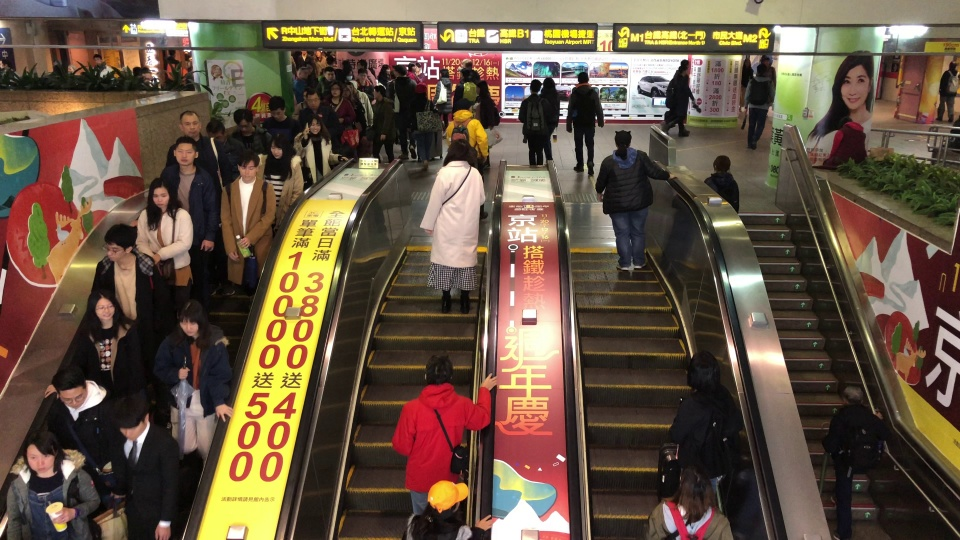person_head: (111, 394, 149, 441), (675, 464, 714, 504), (50, 365, 86, 408), (23, 430, 58, 474), (685, 349, 722, 389), (102, 223, 137, 262), (425, 479, 461, 514), (178, 299, 206, 336), (423, 353, 453, 385), (87, 288, 116, 319), (442, 139, 475, 165), (173, 136, 199, 166), (235, 148, 260, 179), (148, 176, 172, 207), (178, 110, 201, 136), (232, 108, 255, 133), (841, 384, 865, 405), (267, 95, 286, 120), (269, 133, 288, 158), (205, 119, 226, 141), (614, 129, 632, 148), (713, 154, 730, 172), (306, 89, 320, 110), (306, 114, 322, 132), (328, 80, 342, 97), (475, 79, 489, 95), (414, 82, 428, 96), (372, 84, 385, 99), (392, 64, 407, 77), (457, 97, 471, 110), (529, 78, 541, 93), (543, 76, 556, 89), (577, 70, 590, 83), (357, 67, 368, 82), (323, 66, 334, 80), (0, 58, 11, 69), (439, 67, 450, 78), (461, 58, 472, 69), (356, 59, 368, 69), (92, 53, 103, 63), (677, 65, 688, 75), (756, 64, 766, 75), (298, 66, 307, 78), (341, 85, 350, 97), (325, 55, 335, 65), (380, 64, 389, 75), (167, 47, 176, 57), (341, 60, 350, 69), (948, 60, 957, 69), (345, 70, 353, 80), (66, 64, 75, 72), (306, 63, 313, 72), (408, 62, 415, 71), (415, 62, 421, 72), (744, 57, 750, 67), (315, 50, 321, 58), (763, 57, 769, 65), (301, 50, 307, 54)
person_vbox: (390, 353, 499, 516), (151, 298, 232, 469), (418, 139, 487, 315), (594, 130, 678, 271), (43, 288, 143, 401), (667, 349, 741, 496), (820, 385, 888, 540), (108, 394, 180, 540), (6, 430, 100, 540), (160, 136, 219, 310), (217, 148, 277, 311), (90, 222, 167, 329), (135, 176, 193, 312), (46, 364, 109, 482), (641, 464, 732, 540), (445, 97, 489, 220), (404, 480, 493, 540), (255, 133, 304, 234), (565, 71, 604, 177), (291, 114, 348, 183), (163, 110, 219, 176), (517, 78, 552, 166), (387, 64, 418, 160), (743, 64, 775, 151), (205, 119, 246, 180), (473, 79, 500, 167), (662, 65, 695, 137), (703, 154, 740, 215), (371, 84, 395, 163), (297, 88, 341, 130), (413, 81, 434, 169), (539, 76, 560, 162), (231, 108, 271, 153), (261, 95, 298, 141), (935, 60, 960, 123), (323, 80, 355, 128), (432, 67, 452, 138), (451, 67, 478, 115), (354, 60, 377, 104), (762, 56, 777, 117), (738, 56, 754, 111), (164, 47, 187, 80), (314, 66, 335, 98), (356, 70, 375, 103), (291, 67, 308, 103), (91, 52, 112, 78), (314, 49, 327, 78), (298, 49, 313, 67)
